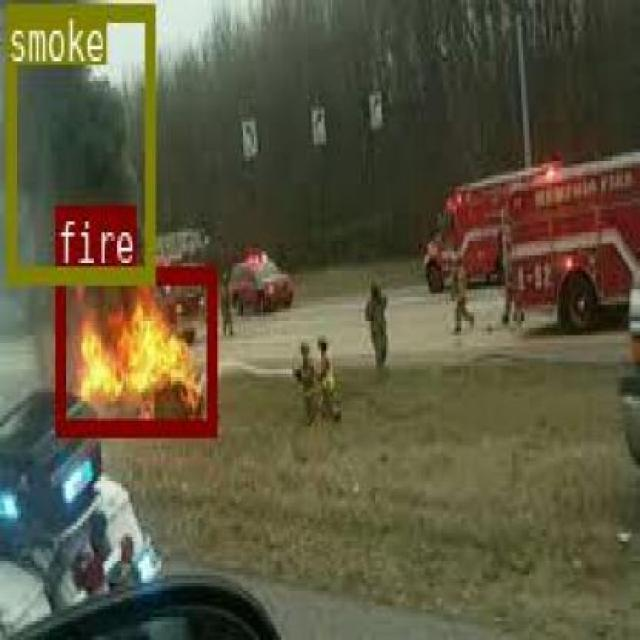Fire: (56, 264, 216, 433)
Smoke: (4, 1, 152, 282)
